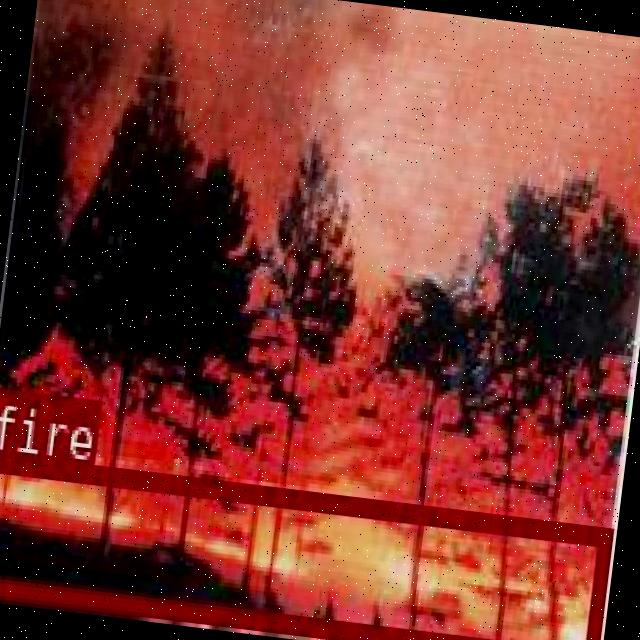fire: (0, 449, 610, 640)
